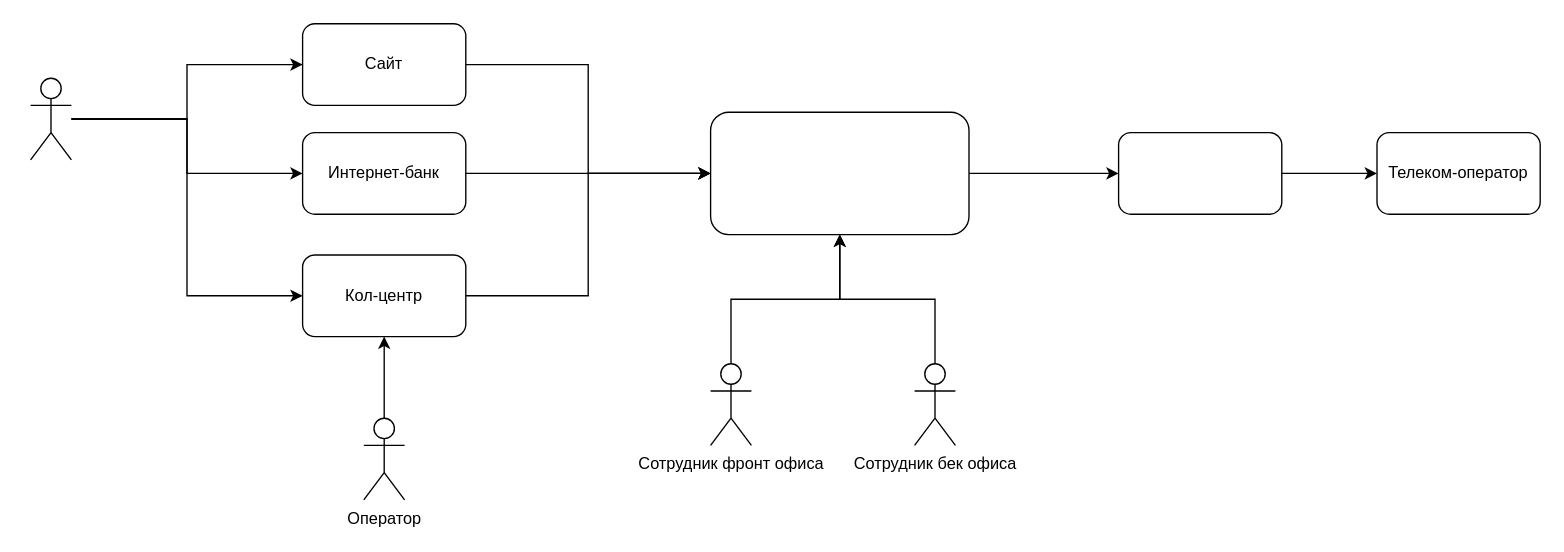
This 1564x552 diagram has some shape labels left out. Here are the shapes that lost their labels. From the top down, the box of each, then its label:
(29, 77, 71, 160): Клиент
(709, 111, 969, 235): АБС
(1117, 131, 1282, 214): СМС-шлюз
